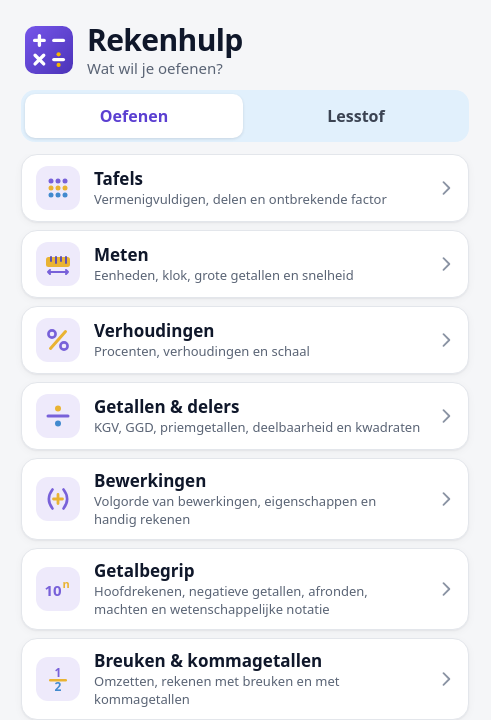
Test: App › offers Tafels with its topics and starts a session
Click the button "Tafels Vermenigvuldigen, delen en ontbrekende factor" at x=245, y=188, box [21,154,469,222]
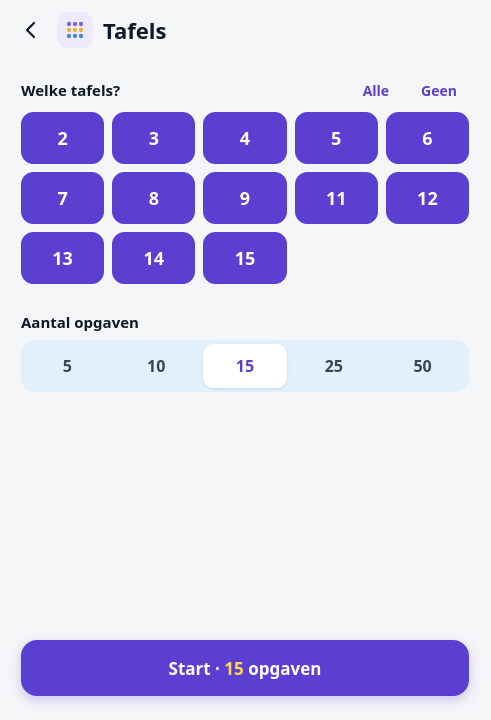
Expected: the heading "Tafels" is shown, [103,16,166,44]
Click the button "Start · 15 opgaven" at x=245, y=668, box [21,640,469,696]
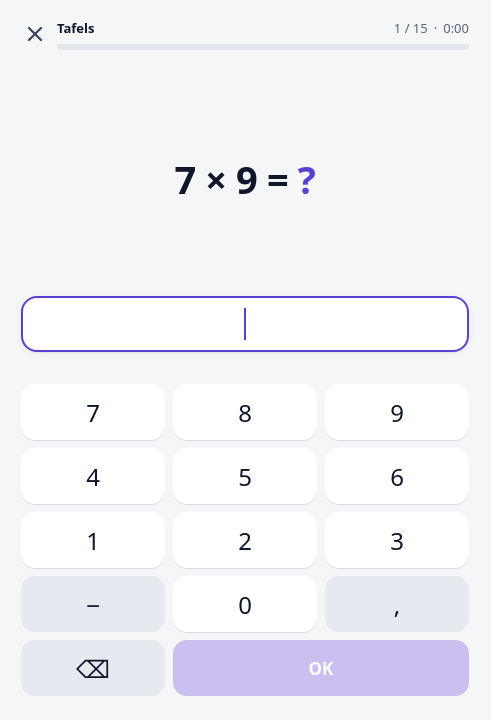
Expected: the text "1 / 15" is shown, [394,18,428,38]
